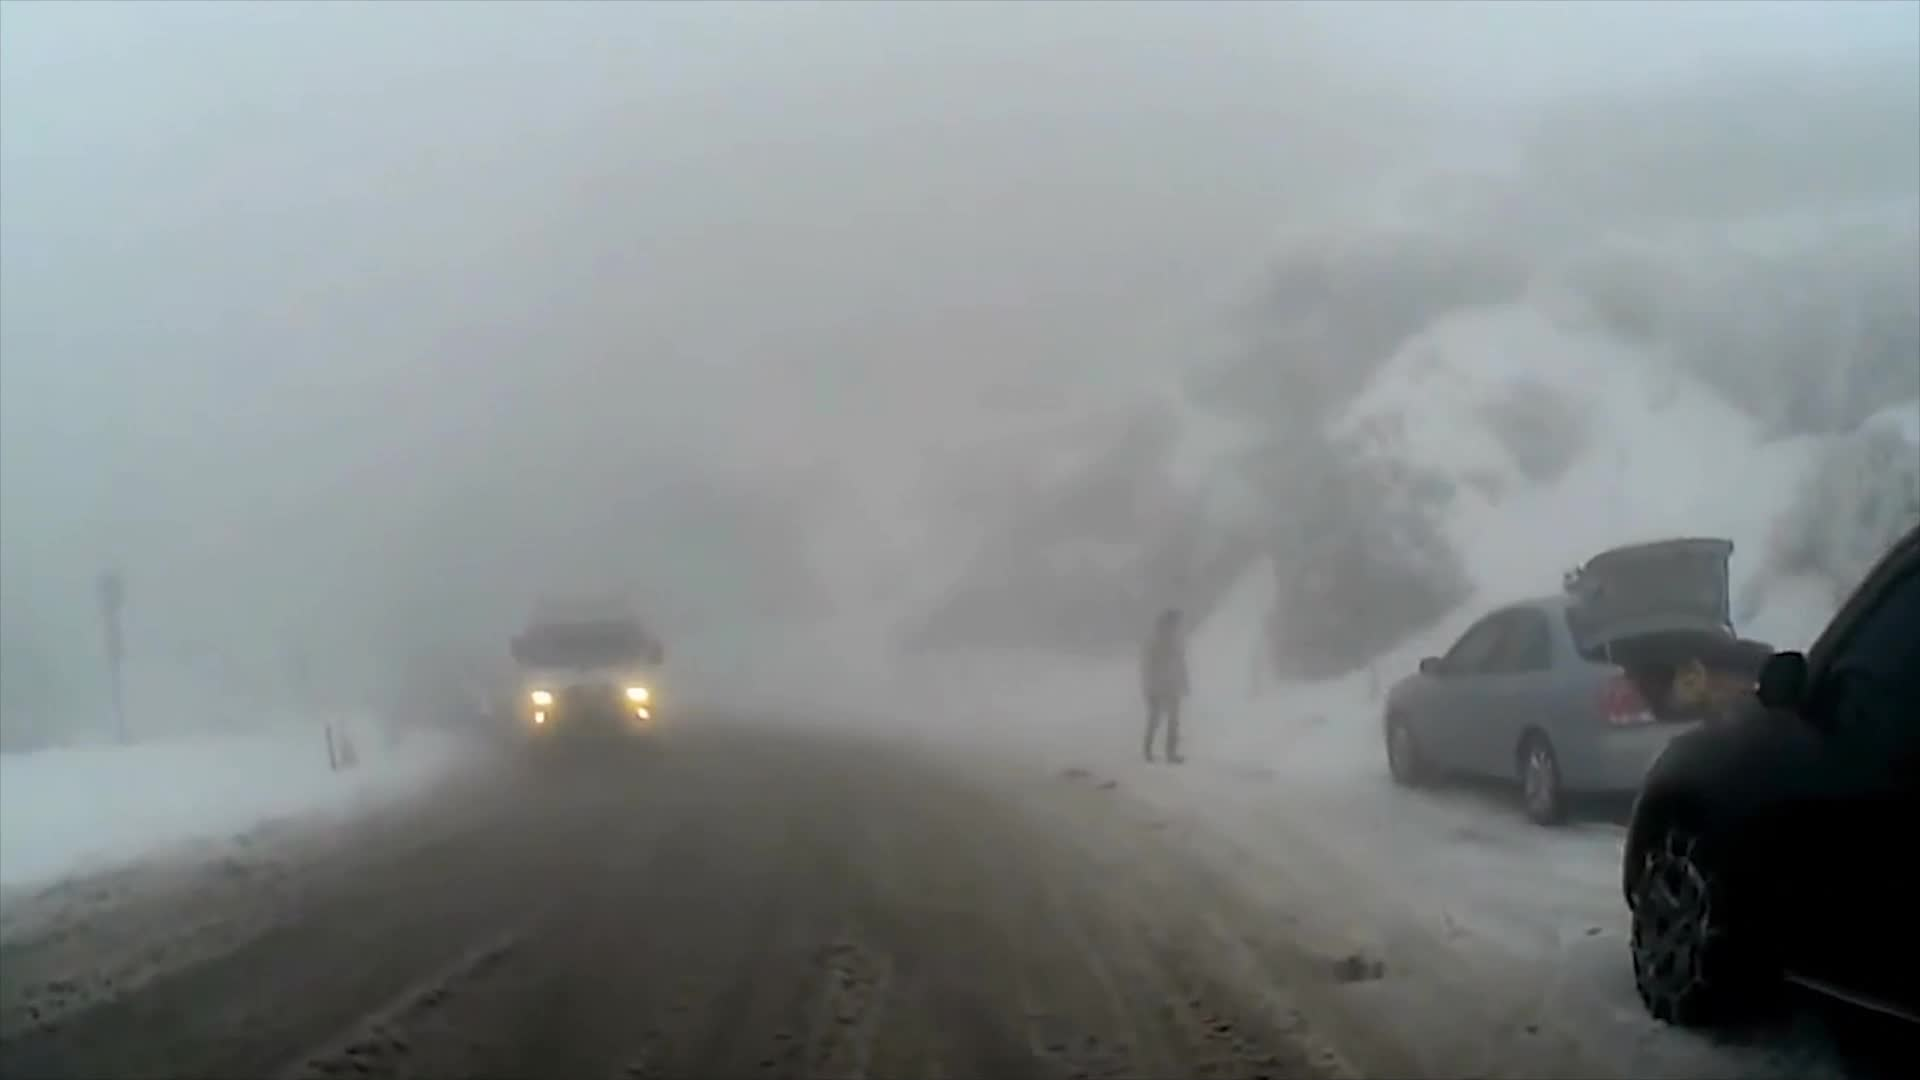pedestrian: (1135, 607, 1191, 763)
vehicle: (1620, 508, 1920, 1079), (1378, 533, 1792, 829), (503, 596, 664, 773)
